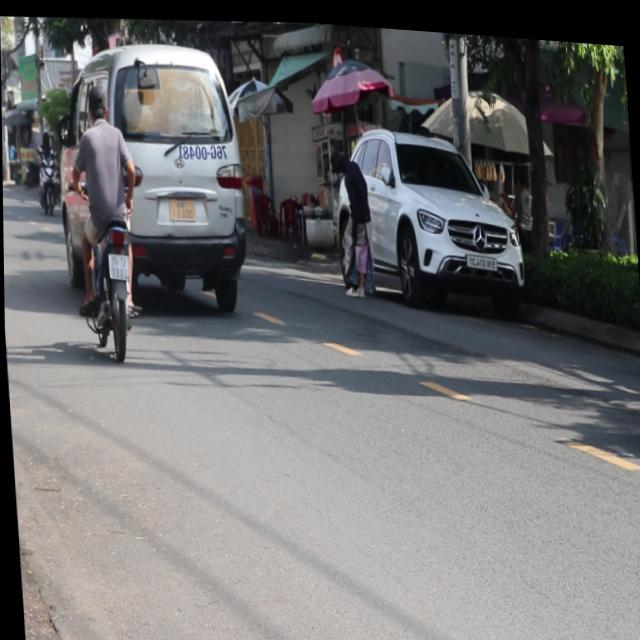licenseplate: (64, 75, 147, 359)
motorcyclist: (85, 78, 112, 124)
nohelmet: (108, 251, 130, 277)
